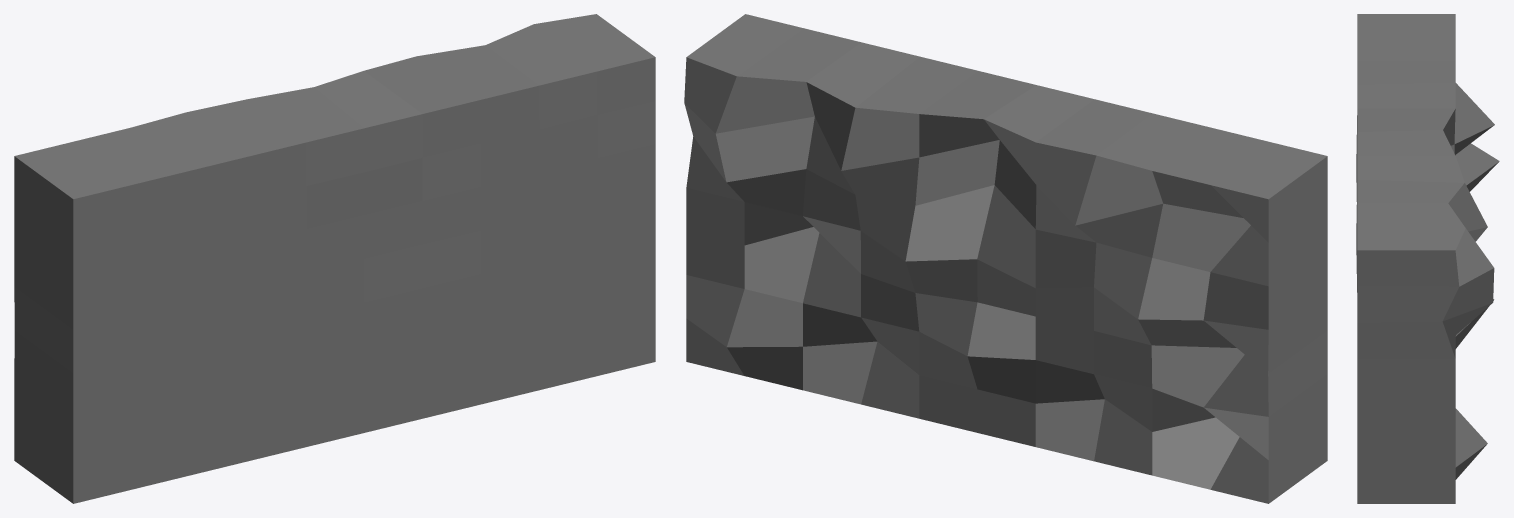
Rendered from Pared.fbx.
The picture shows the model from 3 angles, left to right: view 1: azimuth 30°, elevation 25°; view 2: azimuth 150°, elevation 25°; view 3: azimuth 270°, elevation 25°; orthographic projection. The views are drawn at different scales.
Visible parts, largest first — view 1: Pared; view 2: Pared; view 3: Pared.
Boxes of the visible parts, <box> form: Pared: <box>14,14,655,503</box>; Pared: <box>684,14,1327,503</box>; Pared: <box>1356,14,1499,503</box>.
Bounding box in the file's own units: 1002 × 505 × 257.
Materials: 1 (1 with a texture image).
